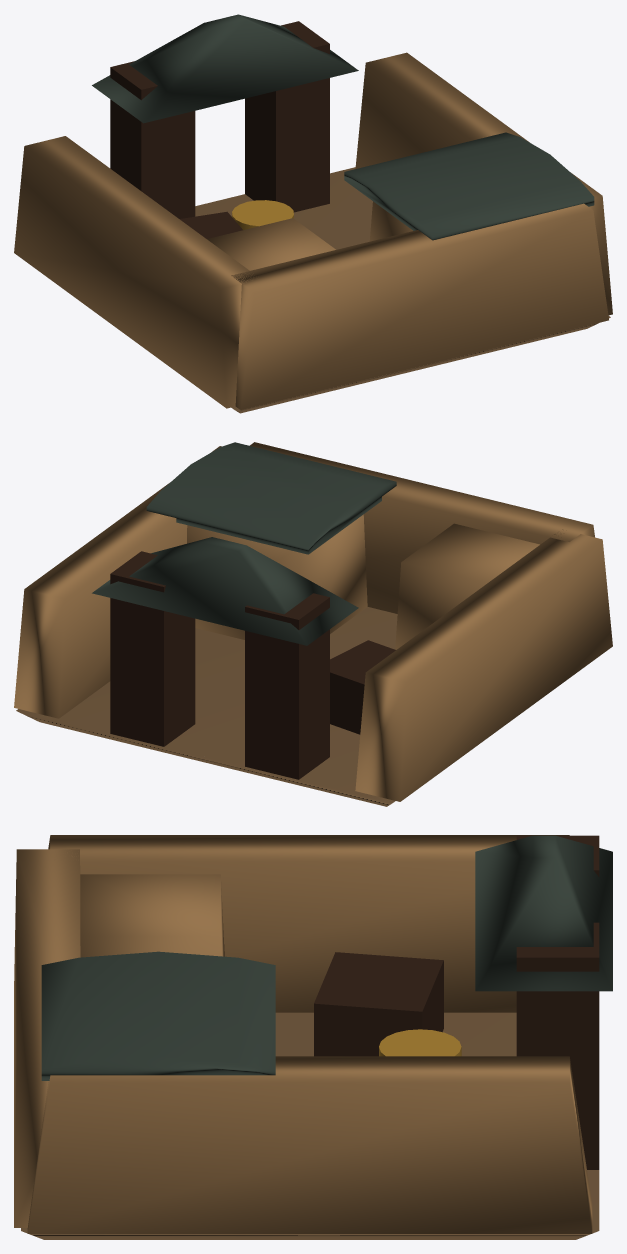
Rendered from R35_HAN_LUOYANG_URBAN_CARAVAN_COURTYARD_A.fbx.
3 renders of one model, top to bottom at view 1: azimuth 30°, elevation 25°; view 2: azimuth 150°, elevation 25°; view 3: azimuth 270°, elevation 25°, orthographic. The views are drawn at different scales.
Visible parts, largest first — view 1: wall_n, wall_e, stable_roof, gate_roof, wall_w, gate_w, gate_e, yard, store, cargo_2, cargo_1, stable; view 2: wall_e, stable_roof, wall_w, yard, gate_roof, gate_e, gate_w, wall_n, store, stable, cargo_1; view 3: wall_w, wall_e, stable_roof, gate_roof, wall_n, store, cargo_1, gate_w, yard, cargo_2, gate_e.
Boxes of the visible parts, bbox=[...] form: wall_n: bbox=[231, 203, 608, 409]; wall_e: bbox=[14, 136, 253, 408]; stable_roof: bbox=[344, 132, 594, 240]; gate_roof: bbox=[92, 14, 358, 123]; wall_w: bbox=[355, 52, 612, 315]; gate_w: bbox=[245, 21, 329, 212]; gate_e: bbox=[110, 61, 195, 218]; yard: bbox=[195, 167, 610, 413]; store: bbox=[207, 218, 335, 270]; cargo_2: bbox=[232, 200, 293, 229]; cargo_1: bbox=[179, 211, 242, 238]; stable: bbox=[369, 201, 412, 241]; wall_e: bbox=[355, 529, 612, 801]; stable_roof: bbox=[146, 442, 396, 554]; wall_w: bbox=[14, 446, 221, 718]; yard: bbox=[16, 607, 397, 806]; gate_roof: bbox=[92, 537, 358, 645]; gate_e: bbox=[245, 593, 329, 779]; gate_w: bbox=[110, 551, 195, 746]; wall_n: bbox=[250, 442, 594, 613]; store: bbox=[395, 523, 539, 649]; stable: bbox=[187, 514, 367, 639]; cargo_1: bbox=[330, 640, 395, 734]; wall_w: bbox=[27, 1056, 592, 1233]; wall_e: bbox=[48, 835, 569, 1012]; stable_roof: bbox=[41, 951, 275, 1080]; gate_roof: bbox=[475, 835, 612, 991]; wall_n: bbox=[14, 849, 80, 1227]; store: bbox=[80, 874, 224, 957]; cargo_1: bbox=[314, 952, 443, 1056]; gate_w: bbox=[516, 922, 599, 1169]; yard: bbox=[21, 1012, 599, 1239]; cargo_2: bbox=[379, 1029, 461, 1056]; gate_e: bbox=[516, 835, 599, 876].
Bounding box in the file's own units: 86 × 45 × 87.
